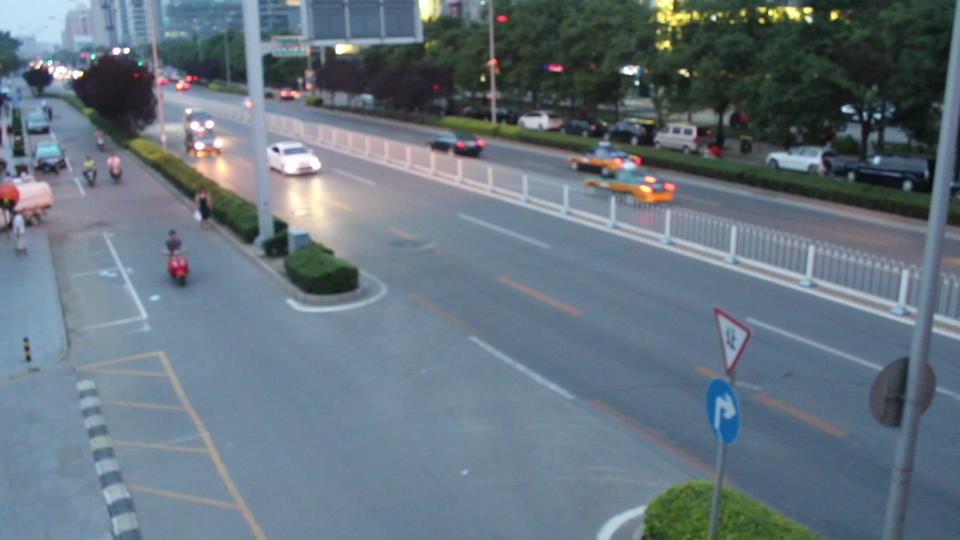car: (842, 153, 938, 193), (584, 168, 676, 205), (766, 145, 843, 177), (565, 144, 639, 174), (268, 140, 323, 176), (429, 130, 486, 157), (654, 124, 702, 155), (517, 112, 566, 132)
person: (694, 127, 720, 158), (162, 229, 186, 256), (107, 153, 123, 186), (81, 154, 98, 185)
sign: (710, 306, 750, 380), (703, 385, 743, 447)
